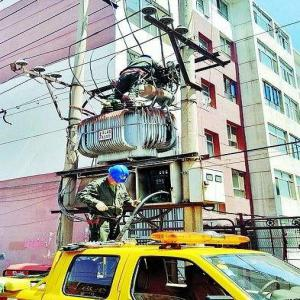blue: (105, 165, 129, 186)
